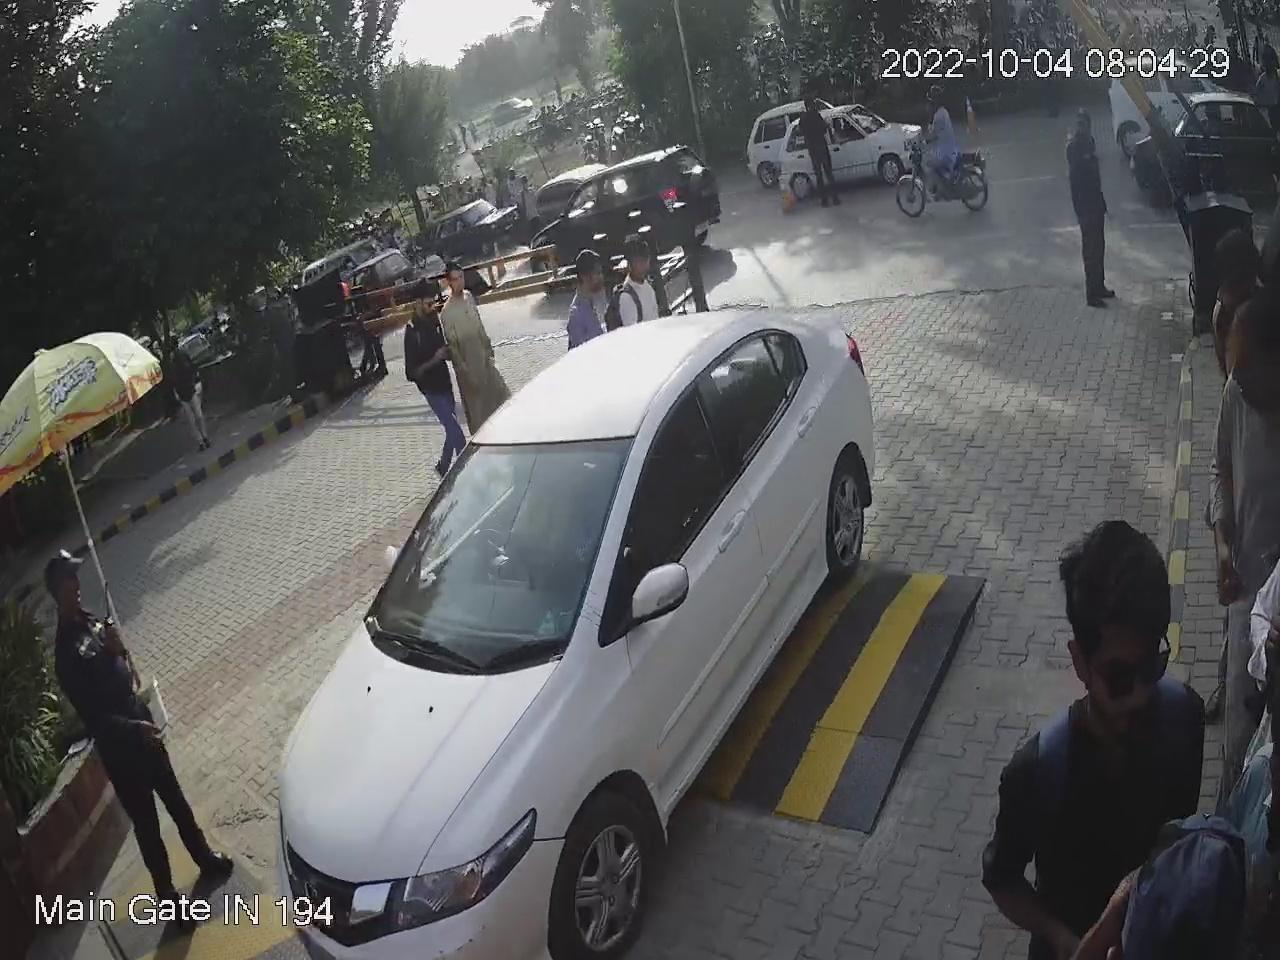windshield: (346, 412, 638, 680)
